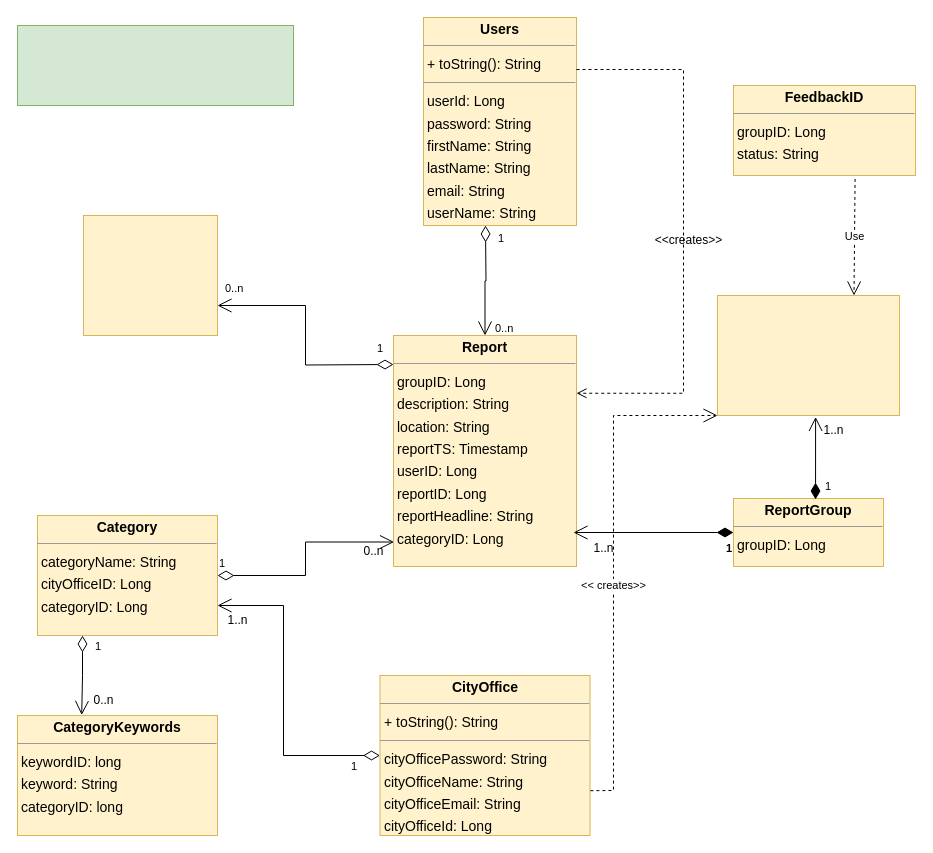
The diagram is 933 pixels wide and 853 high, and some of its shapes have lost their labels. The shapes that lost their labels are listed below. From the top down, each one's centre as x and y in pixels, then its label:
point 155,65: svaka klasa sadrži fukcije get i set za svaki atribut, te potrebne konstruktore
point 150,275: Image URL: String imageID: Long reportID: Long
point 808,355: Feedback groupID: Long status: String changeTS: Timestamp
